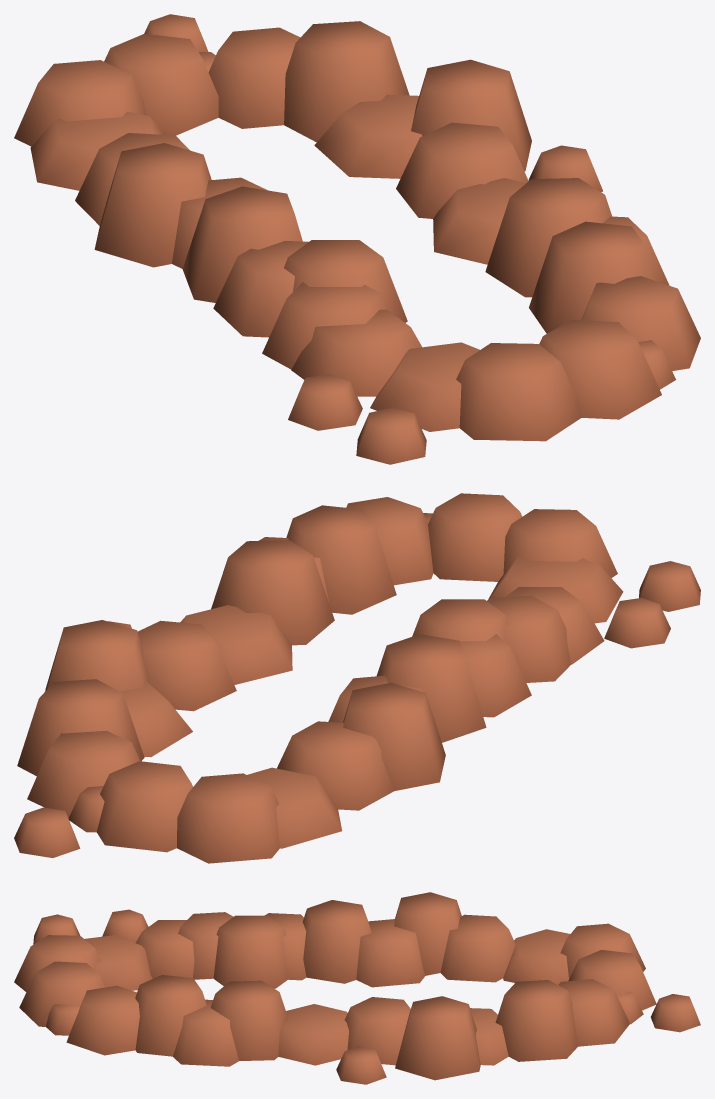
Rendered from K_grave-border.glb.
The picture shows the model from 3 angles, top to bottom: view 1: azimuth 30°, elevation 25°; view 2: azimuth 150°, elevation 25°; view 3: azimuth 270°, elevation 25°; orthographic projection. The views are drawn at different scales.
Parts seen in each view (by area): view 1: grave-border; view 2: grave-border; view 3: grave-border.
Boxes of the visible parts, box(x1,y1,x2,y2) form: grave-border: box(14, 14, 700, 464); grave-border: box(14, 493, 700, 863); grave-border: box(14, 892, 700, 1084).
Size of the model in its own units: 0.7617 by 0.1117 by 1.39.
